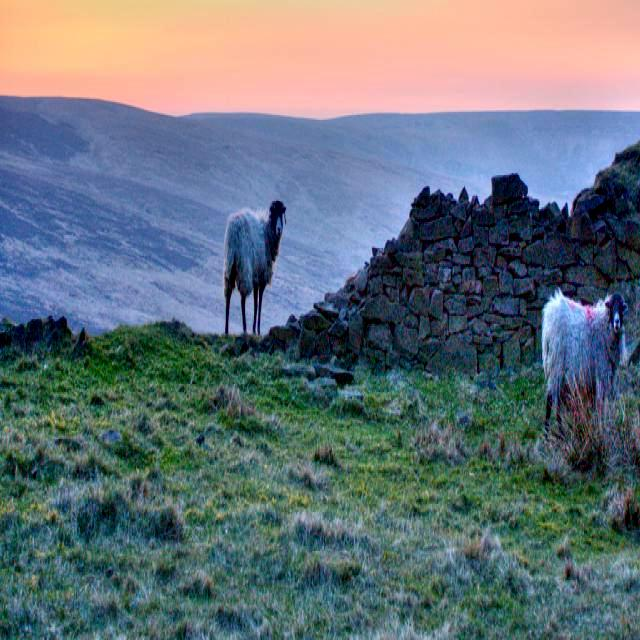sheep: (542, 286, 624, 433), (223, 198, 285, 330)
